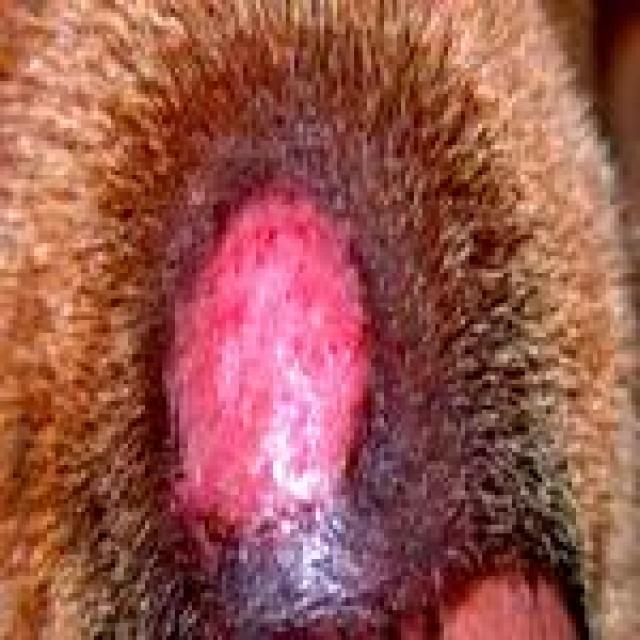fungal infection: (182, 198, 358, 510), (372, 206, 443, 471), (236, 109, 400, 197), (221, 516, 382, 601), (448, 556, 571, 640)
